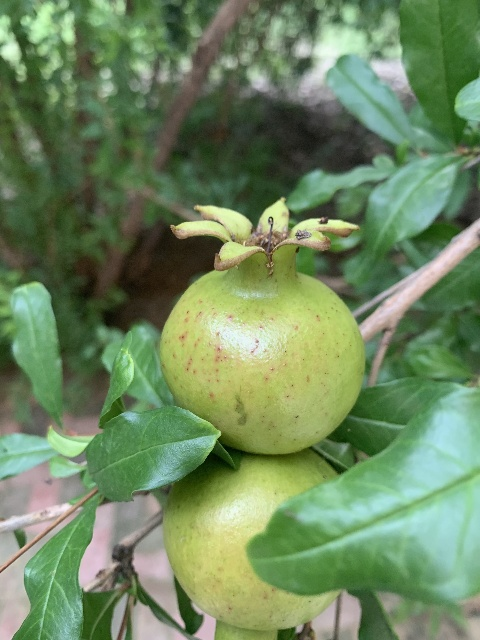mid-growth: (158, 196, 366, 453), (163, 447, 340, 640)
